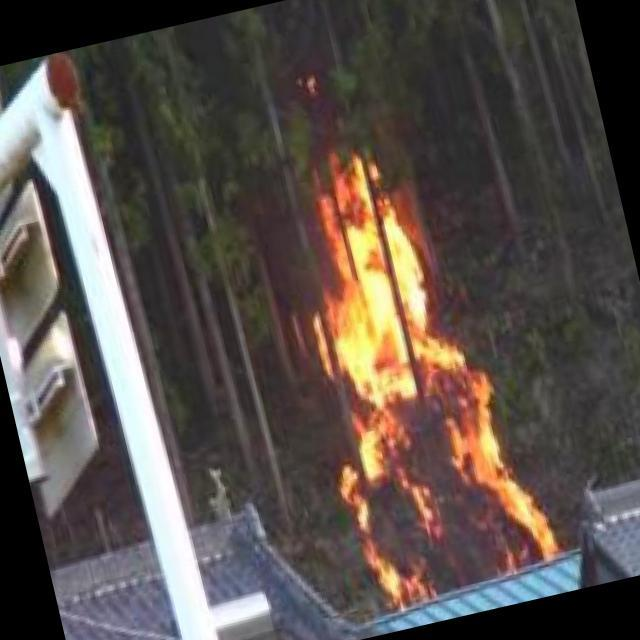Fire: (270, 110, 545, 609)
